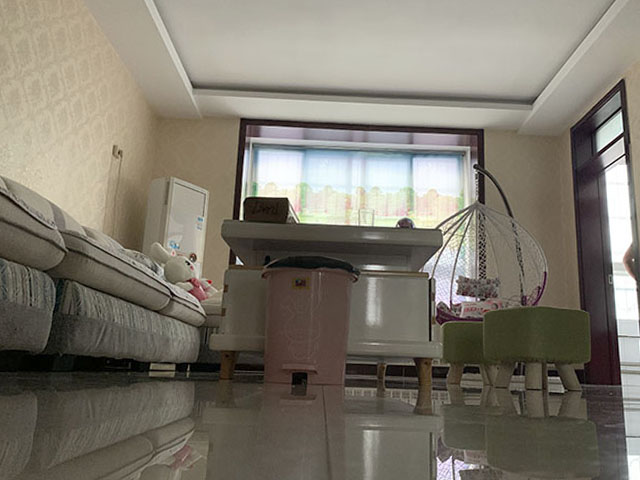sofa: (1, 174, 223, 371)
stool: (481, 305, 594, 392), (440, 319, 485, 384)
table: (206, 218, 444, 391)
trashcan: (258, 253, 363, 395)
